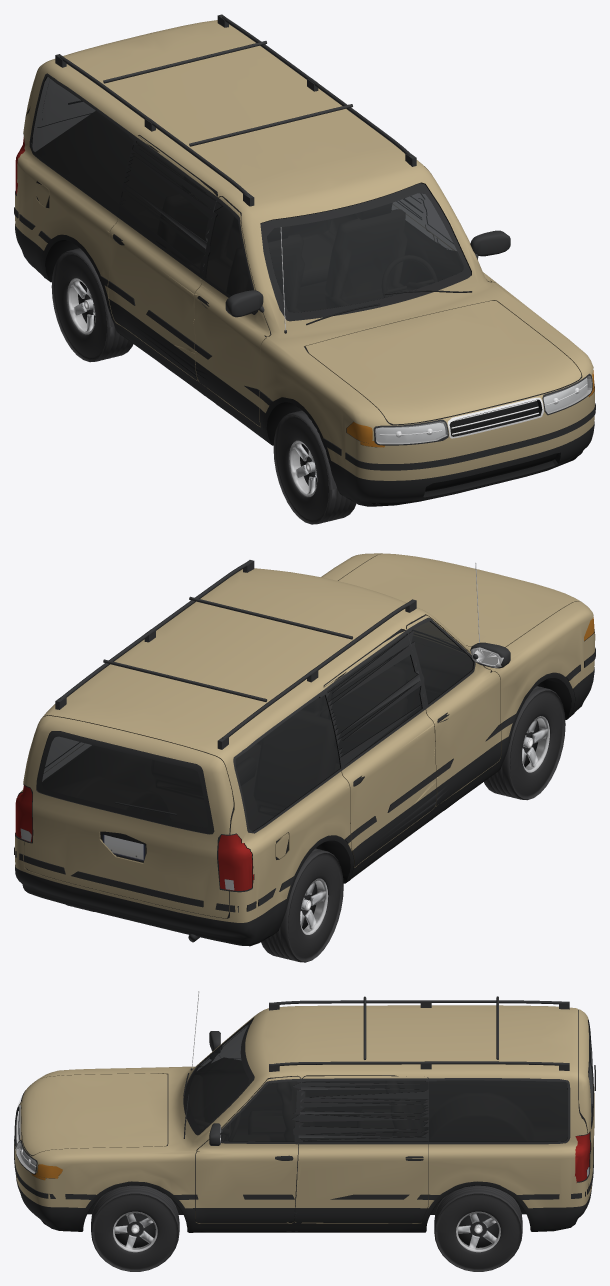
Rendered from car_suv.glb.
3 renders of one model, top to bottom at view 1: azimuth 30°, elevation 25°; view 2: azimuth 150°, elevation 25°; view 3: azimuth 270°, elevation 25°, orthographic. The views are drawn at different scales.
Parts seen in each view (by area): view 1: body, wheel_FR, wheel_RR; view 2: body, wheel_RR, wheel_FR; view 3: body, wheel_FL, wheel_RL.
Part boxes in pixels (<box>): body: <box>14,14,595,506</box>; wheel_FR: <box>273,410,356,524</box>; wheel_RR: <box>51,248,133,362</box>; body: <box>14,553,595,946</box>; wheel_RR: <box>261,848,343,962</box>; wheel_FR: <box>484,686,565,800</box>; body: <box>14,991,595,1232</box>; wheel_FL: <box>91,1185,179,1271</box>; wheel_RL: <box>434,1185,522,1271</box>.
Bounding box in the file's own units: 2.07 × 1.84 × 4.82.
Materials: 12 (1 with a texture image).
